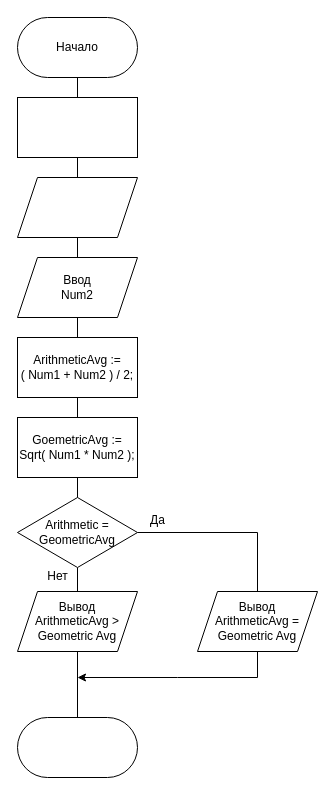
Some shapes in this 335 by 795 pixel diagram are drawn without their labels. The shapes that lost their labels are listed below. From the top down, each one's centre as x and y in pixels, then its label:
[77,127]: Num1 := 0; Num2 := 0; ArithmeticAvg := 0; GeometricAvg := 0;
[77,207]: Ввод Num1
[77,747]: Конец
